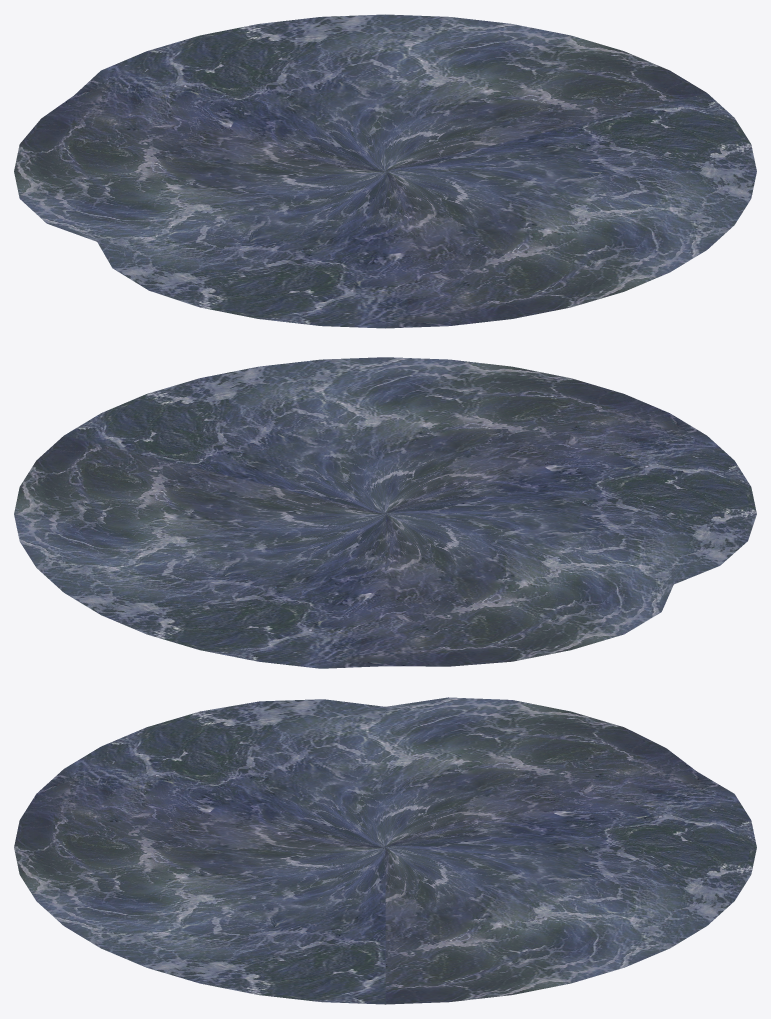
The model's file is yuanpan.FBX.
The picture shows the model from 3 angles, top to bottom: view 1: azimuth 30°, elevation 25°; view 2: azimuth 150°, elevation 25°; view 3: azimuth 270°, elevation 25°; orthographic projection.
Parts seen in each view (by area): view 1: Plane001; view 2: Plane001; view 3: Plane001.
Boxes of the visible parts, <box> form: Plane001: <box>14,14,756,328</box>; Plane001: <box>14,357,756,668</box>; Plane001: <box>14,697,756,1004</box>.
Size of the model in its own units: 69.61 by 4.84e-06 by 71.18.
Materials: 1 (1 with a texture image).
